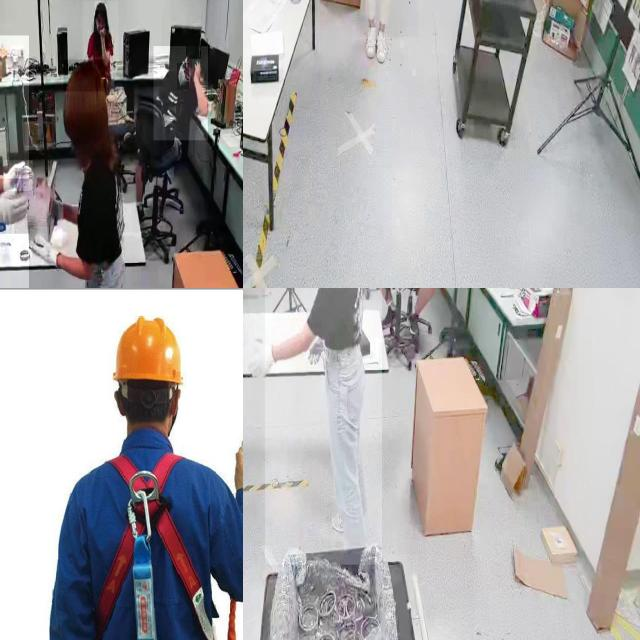Harness: (95, 449, 211, 640)
face_mask: (177, 63, 189, 90)
face_nomask: (95, 18, 105, 32)
hand_glove: (0, 178, 29, 233), (253, 328, 277, 394), (28, 227, 62, 264), (4, 160, 32, 191)
hand_noglove: (192, 58, 201, 82), (98, 27, 106, 38)
head_nohelmet: (64, 59, 106, 92), (186, 46, 202, 60), (95, 1, 107, 11)
person: (265, 288, 382, 565), (32, 56, 132, 288), (154, 46, 208, 141), (83, 1, 119, 67)
shoes: (380, 299, 401, 332), (375, 24, 391, 67), (409, 304, 423, 346), (362, 21, 376, 60)
